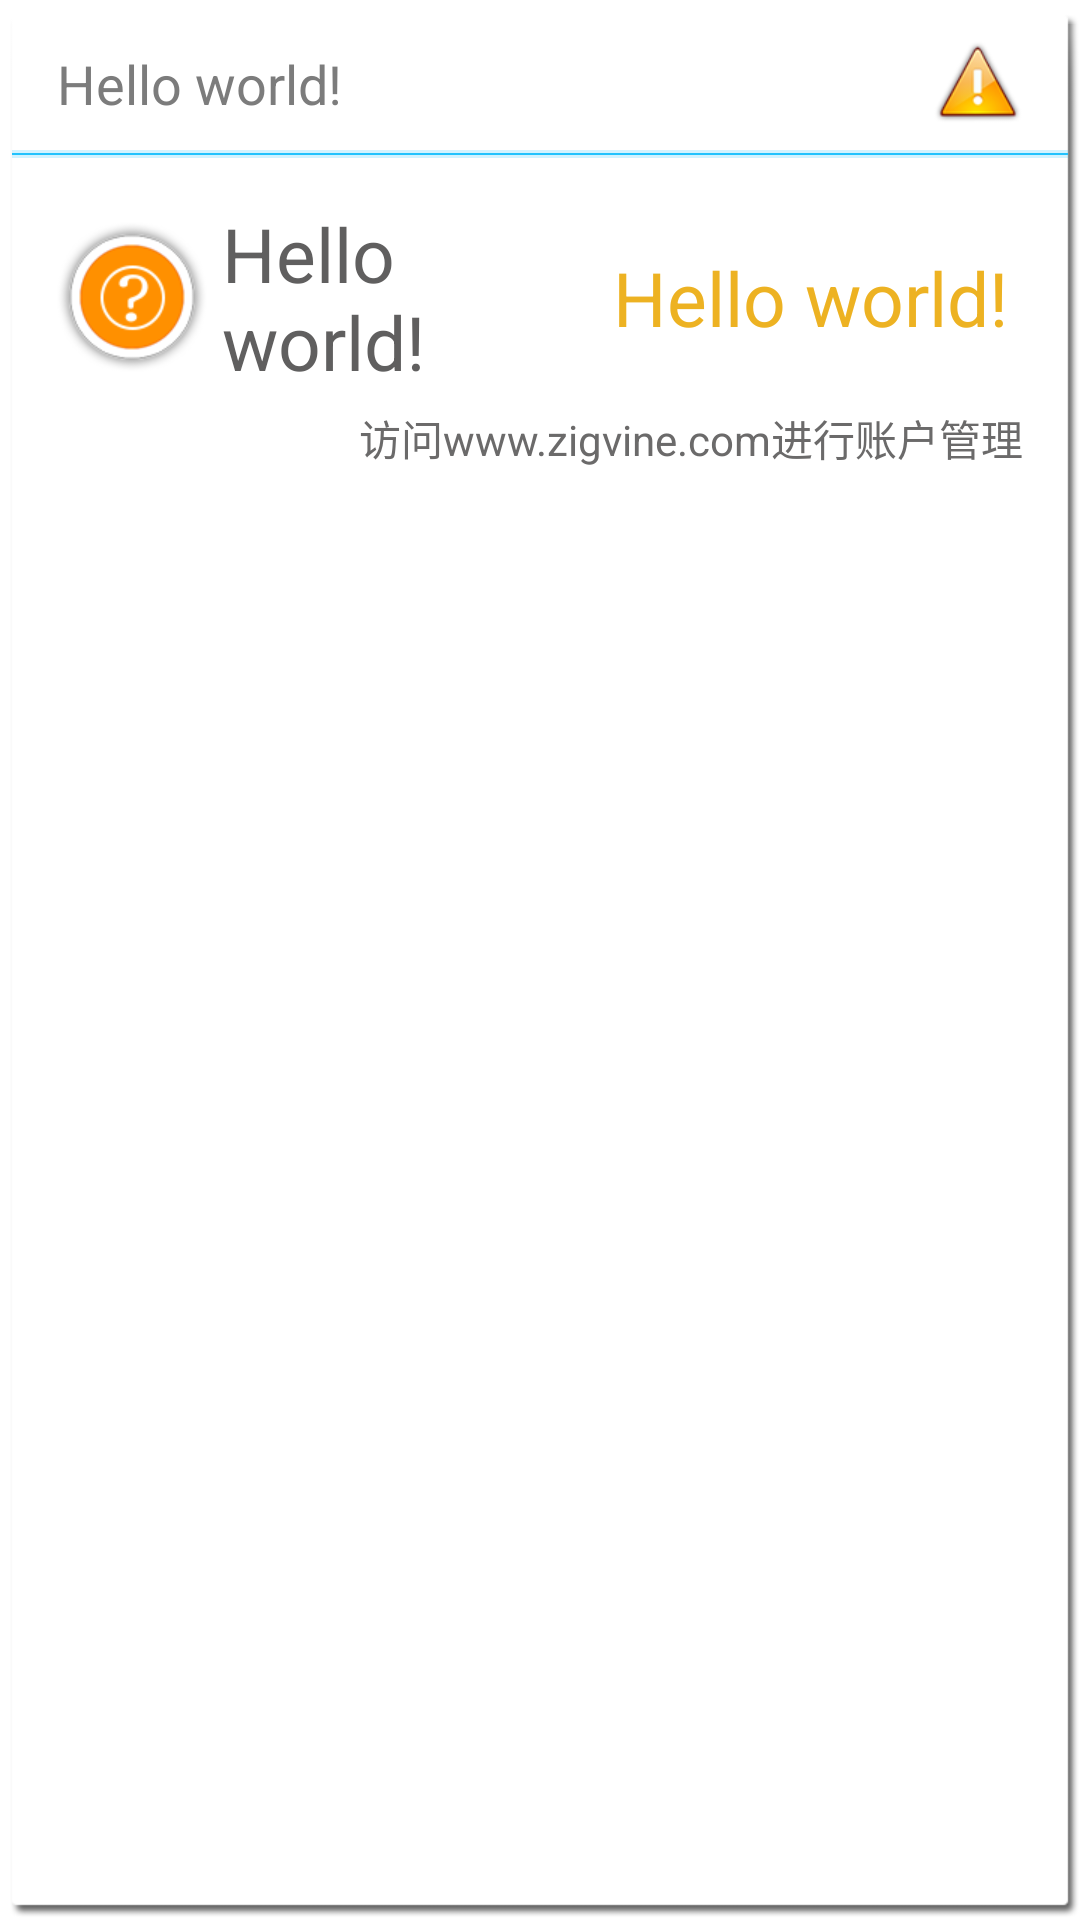

Screen size 1080 × 1920. Icon name, then its box in pixels as {"x1": x1, "y1": y1, "x2": x2, "y2": y2}:
alarm: {"x1": 938, "y1": 45, "x2": 1018, "y2": 119}
